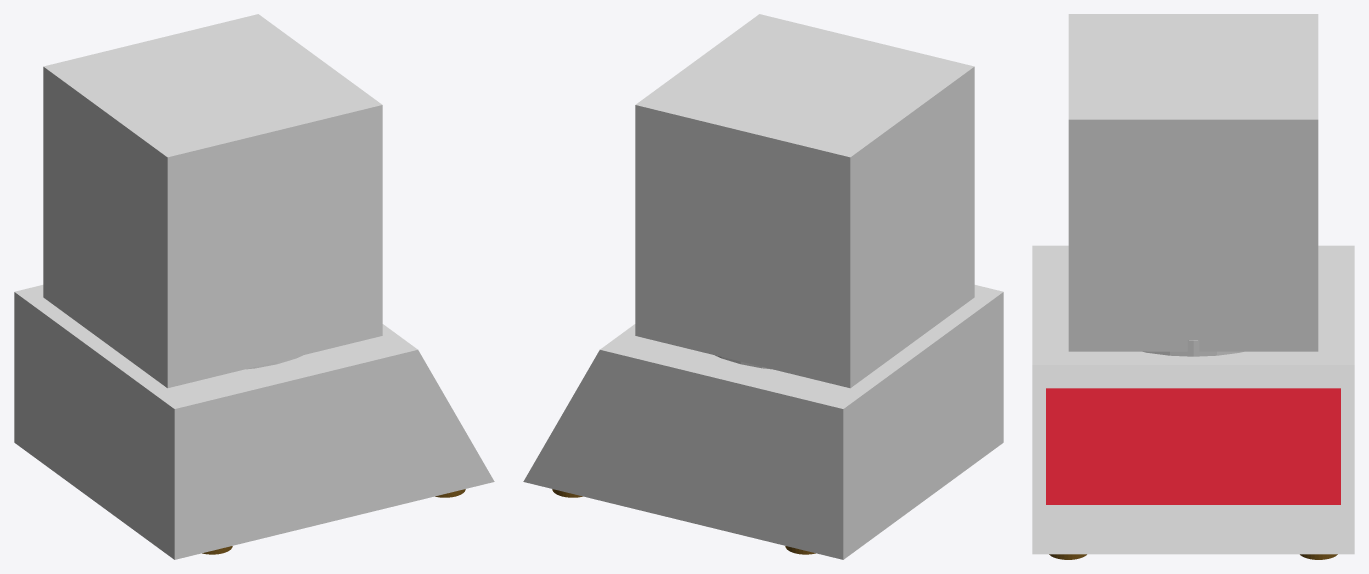
File: timbangan.fbx
3 renders of one model, left to right at view 1: azimuth 30°, elevation 25°; view 2: azimuth 150°, elevation 25°; view 3: azimuth 270°, elevation 25°, orthographic.
Visible parts, largest first — view 1: Cube.001, Cube; view 2: Cube.001, Cube; view 3: Cube.001, Cube, Plane.
Part boxes in pixels (x1,y1,x2,y2): Cube.001: (43, 14, 382, 388); Cube: (14, 285, 494, 559); Cube.001: (635, 14, 974, 388); Cube: (523, 285, 1003, 559); Cube.001: (1068, 14, 1318, 351); Cube: (1032, 245, 1354, 554); Plane: (1046, 388, 1340, 504).
Size of the model in its own units: 635 by 757 by 551.
